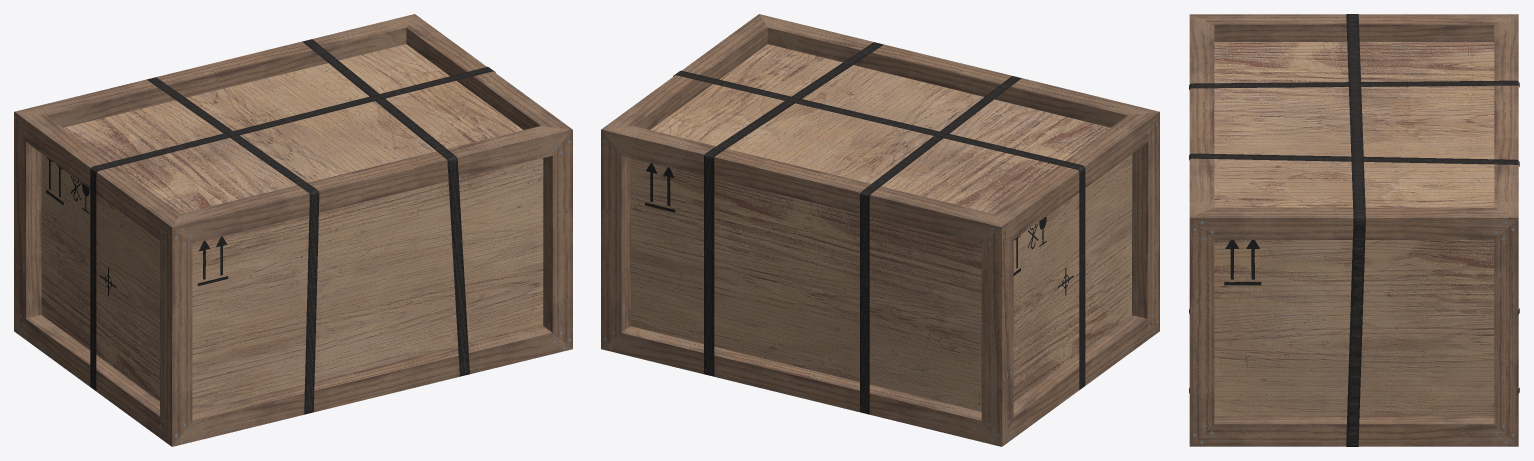
The model's file is Atlas_Wood_Cardboard_Cratedoublelarge.fbx.
3 renders of one model, left to right at view 1: azimuth 30°, elevation 25°; view 2: azimuth 150°, elevation 25°; view 3: azimuth 270°, elevation 25°, orthographic. The views are drawn at different scales.
Parts seen in each view (by area): view 1: Atlas_WoodCardboard_Cratedoublelarge_LOD0; view 2: Atlas_WoodCardboard_Cratedoublelarge_LOD0; view 3: Atlas_WoodCardboard_Cratedoublelarge_LOD0.
Boxes of the visible parts, box(x1,y1,x2,y2) form: Atlas_WoodCardboard_Cratedoublelarge_LOD0: box(14, 14, 572, 446); Atlas_WoodCardboard_Cratedoublelarge_LOD0: box(601, 14, 1159, 446); Atlas_WoodCardboard_Cratedoublelarge_LOD0: box(1189, 14, 1519, 446).
Bounding box in the file's own units: 163 × 85.52 × 111.
